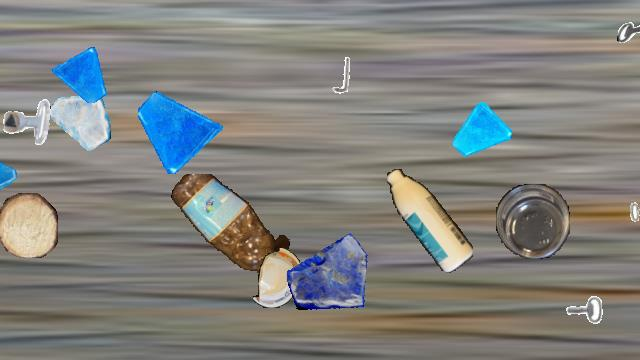glass: (287, 227, 373, 313), (138, 89, 222, 173), (50, 93, 110, 153), (453, 102, 511, 160), (52, 46, 108, 102), (0, 140, 19, 206)
metal: (2, 97, 54, 149), (555, 294, 605, 344), (320, 55, 360, 95), (614, 200, 640, 248), (617, 12, 640, 50)
plastic: (168, 174, 292, 272), (387, 169, 473, 273), (496, 184, 570, 258), (253, 248, 303, 308)
wood: (0, 193, 58, 257)
